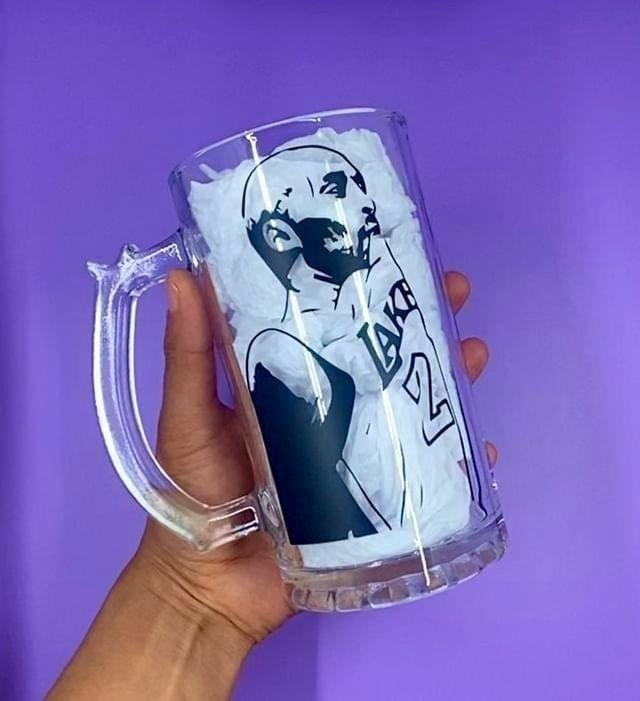glass-mug: (74, 89, 519, 625)
